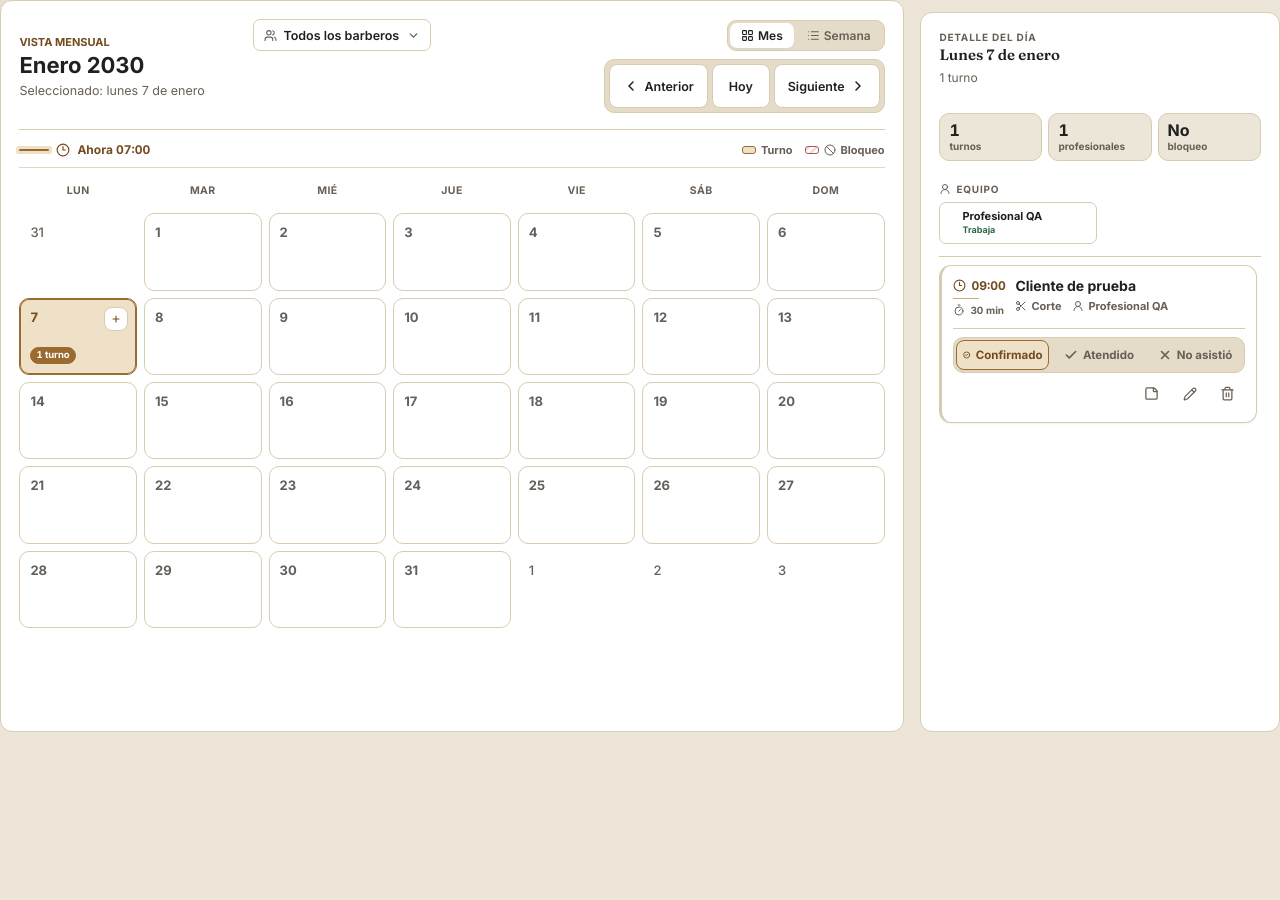
Scenario: arrastre del calendario › cancela sin guardar al recibir otra-semana
This screenshot has width=1280, height=900.
Click the button "Semana": x=839, y=35 [796, 23, 882, 48]
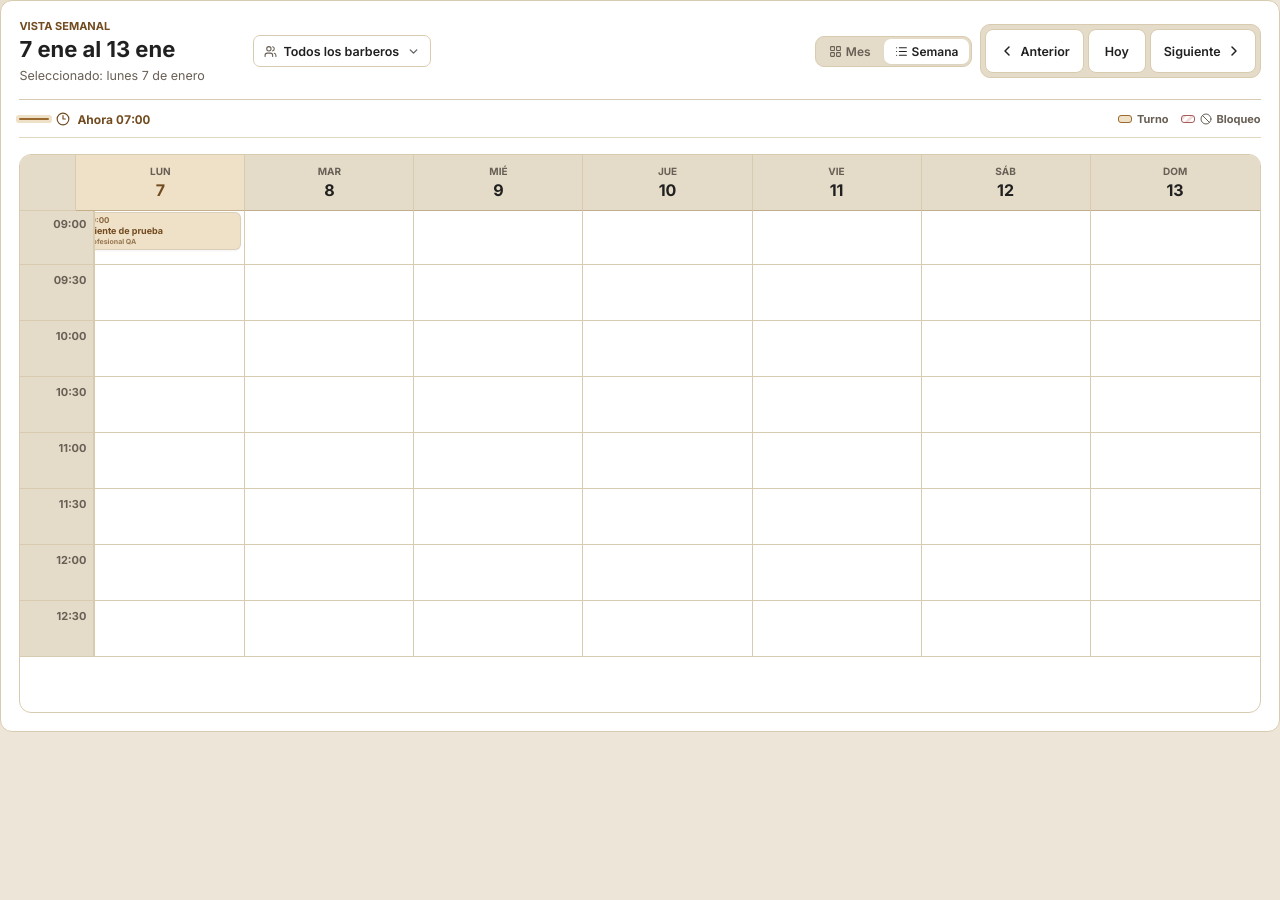
Press the mouse on the button with class "week-chip--draggable": x=160, y=231 [79, 212, 241, 250]
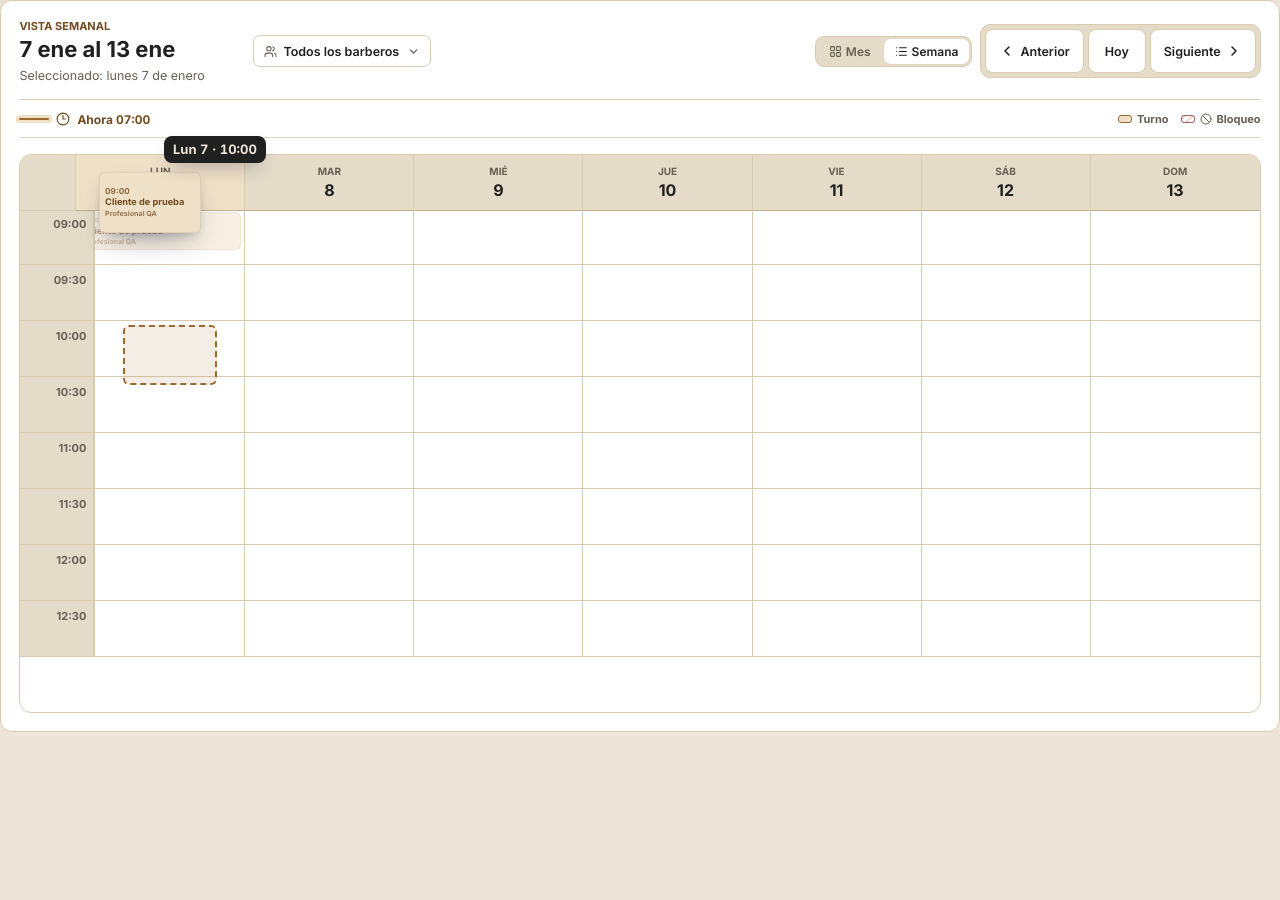
Expected: the button with class "week-chip-ghost" is shown, [99, 172, 201, 233]
Click the button with aria-label "Semana siguiente": x=1203, y=51 [1150, 29, 1256, 73]
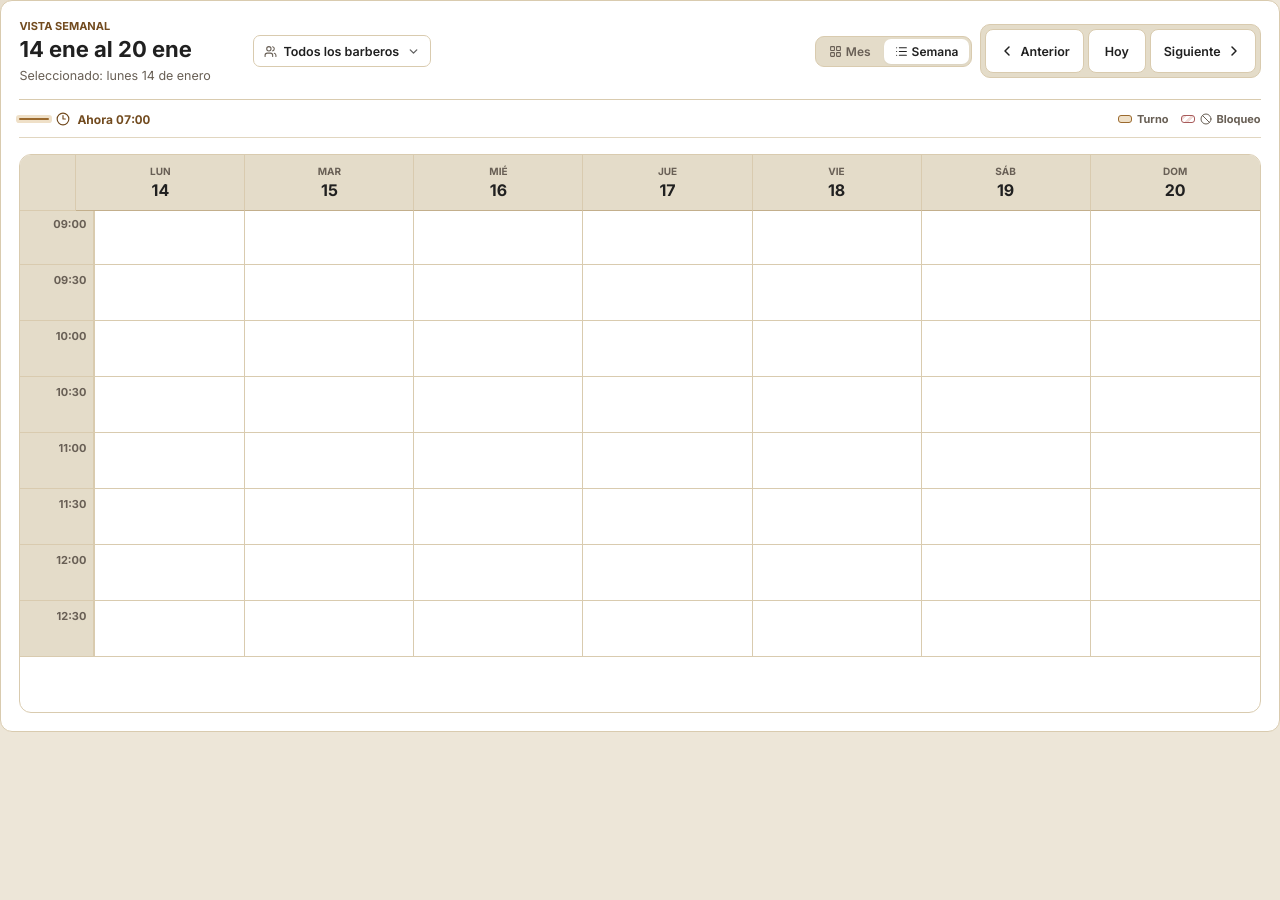
Expected: the button with class "week-chip-ghost" is gone
